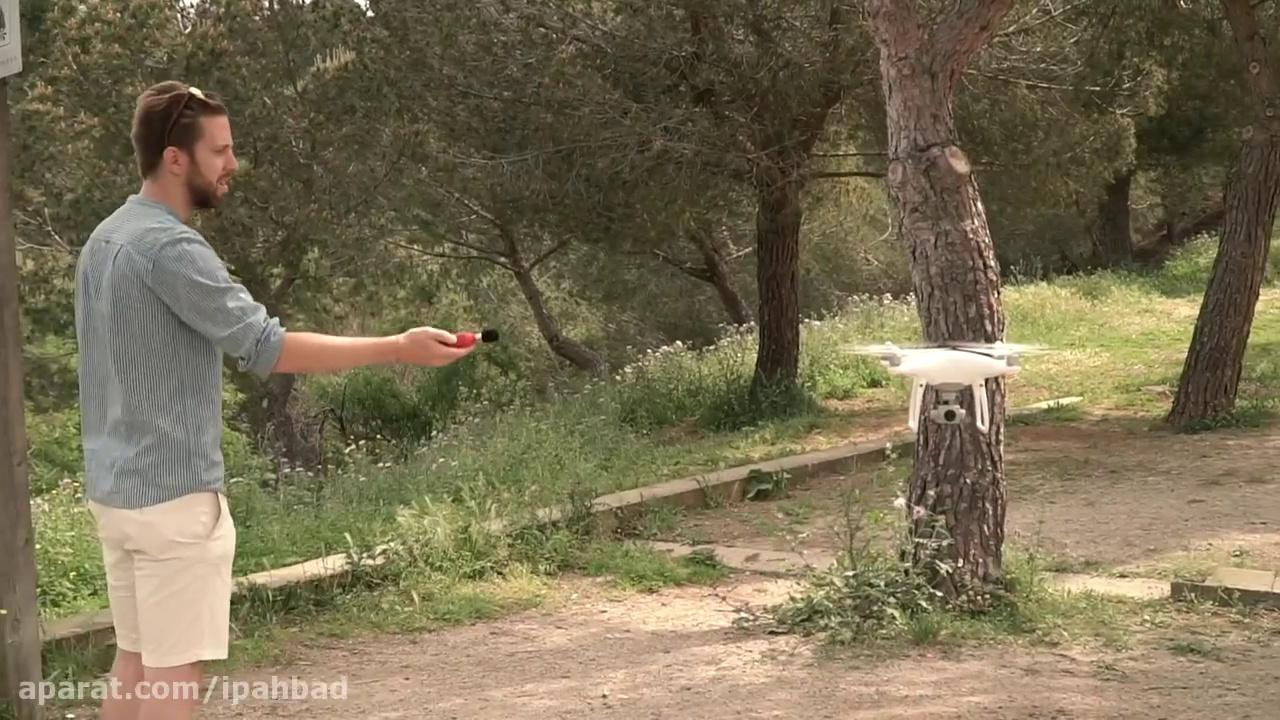drone: (853, 337, 1053, 435)
